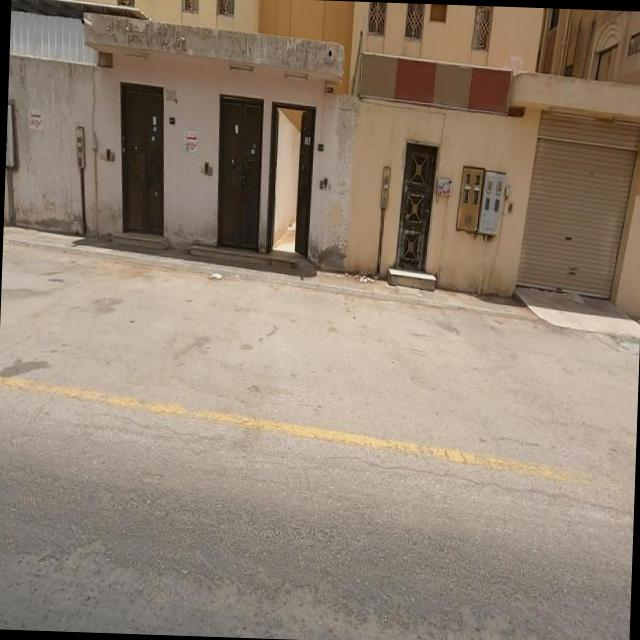debris: (339, 246, 392, 303), (194, 240, 232, 316)
